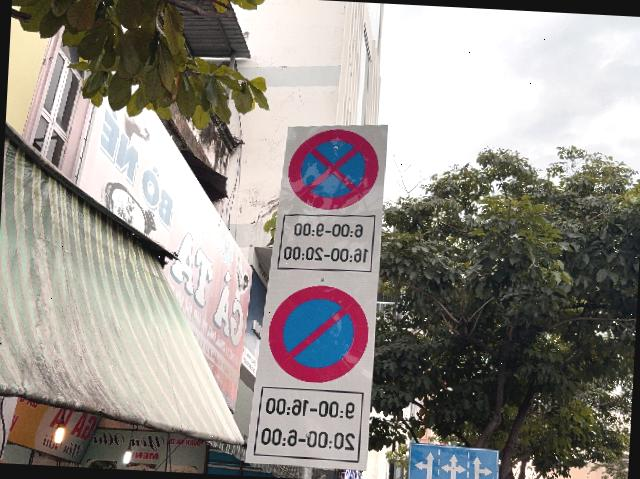cam-do-xe: (266, 282, 370, 386)
cam-dung-va-do-xe: (286, 126, 382, 212)
